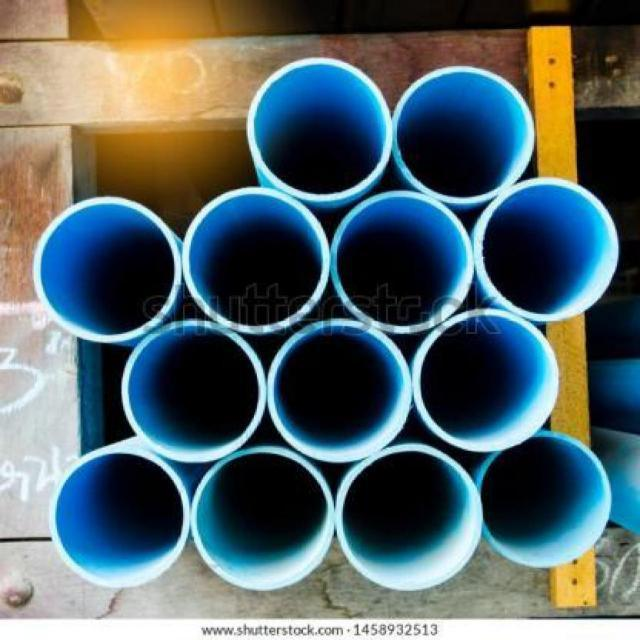pipe: (183, 186, 330, 336), (335, 443, 483, 591), (34, 197, 181, 343), (474, 177, 619, 322), (247, 58, 392, 202), (329, 190, 472, 334), (268, 319, 413, 461), (417, 308, 560, 451), (123, 319, 266, 461), (191, 447, 333, 590), (392, 66, 535, 205), (48, 446, 190, 585), (477, 430, 612, 567)
